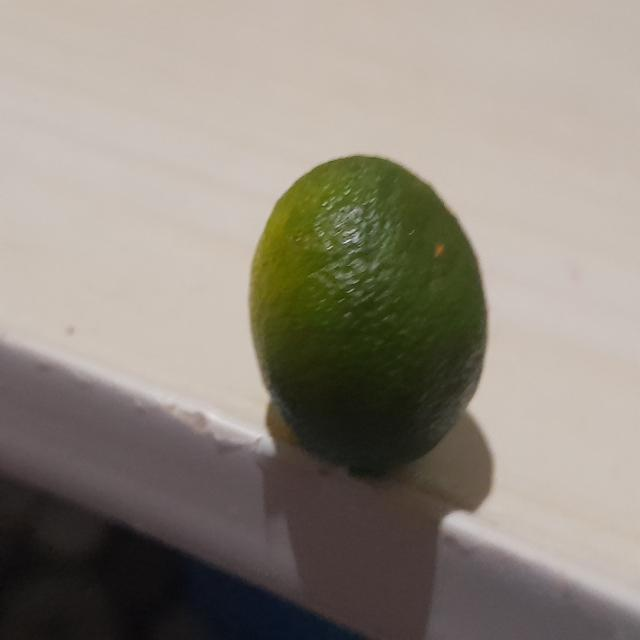heathy: (248, 153, 497, 487)
